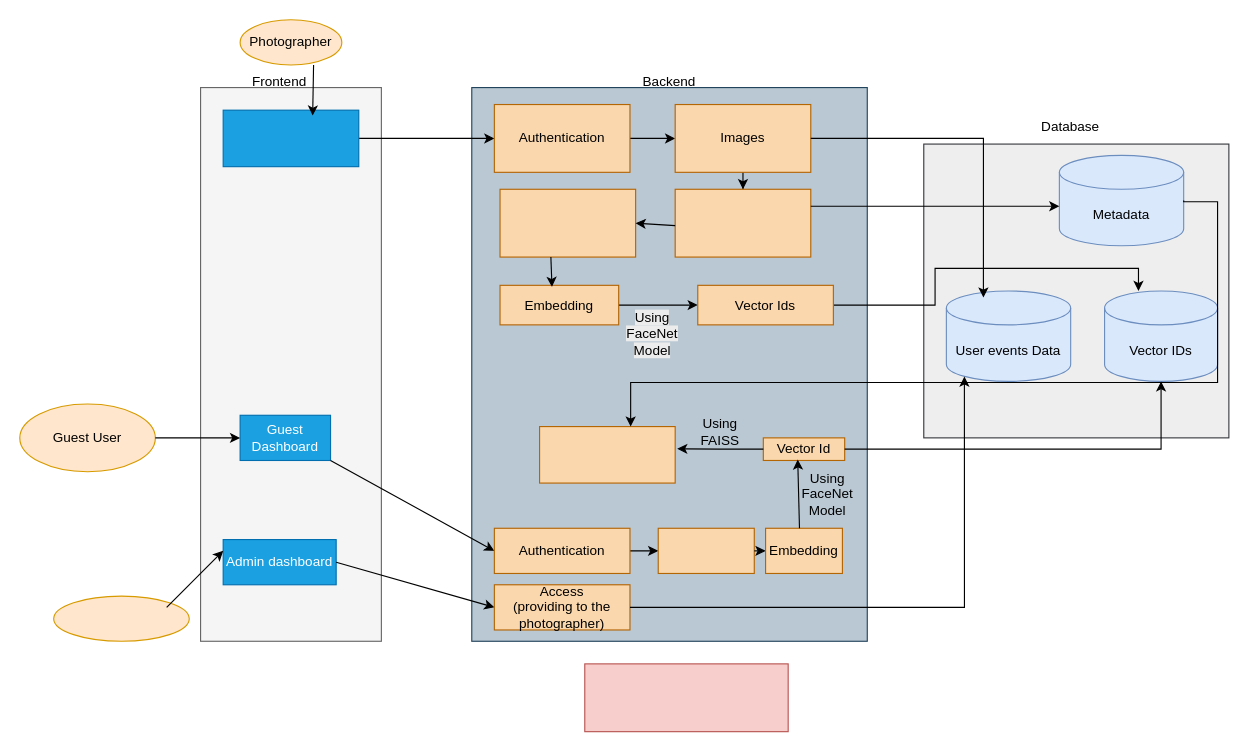
Image size: 1249x751. Some labels were removed from this diagram. The shapes that lost their labels are listed below. From the top down, each one's centre as x and y in pixels, then its label:
At pixel 290 138: "Photographer Dashboard".
At pixel 567 222: "Task Queue (Redis)".
At pixel 742 222: "FastAPI (Upload manager)".
At pixel 606 454: "Matched Photo (Result)".
At pixel 705 550: "Upload image (single person selfie)".
At pixel 121 618: "Admin".
At pixel 686 697: "ARCHITECTURE DIAGRAM".
